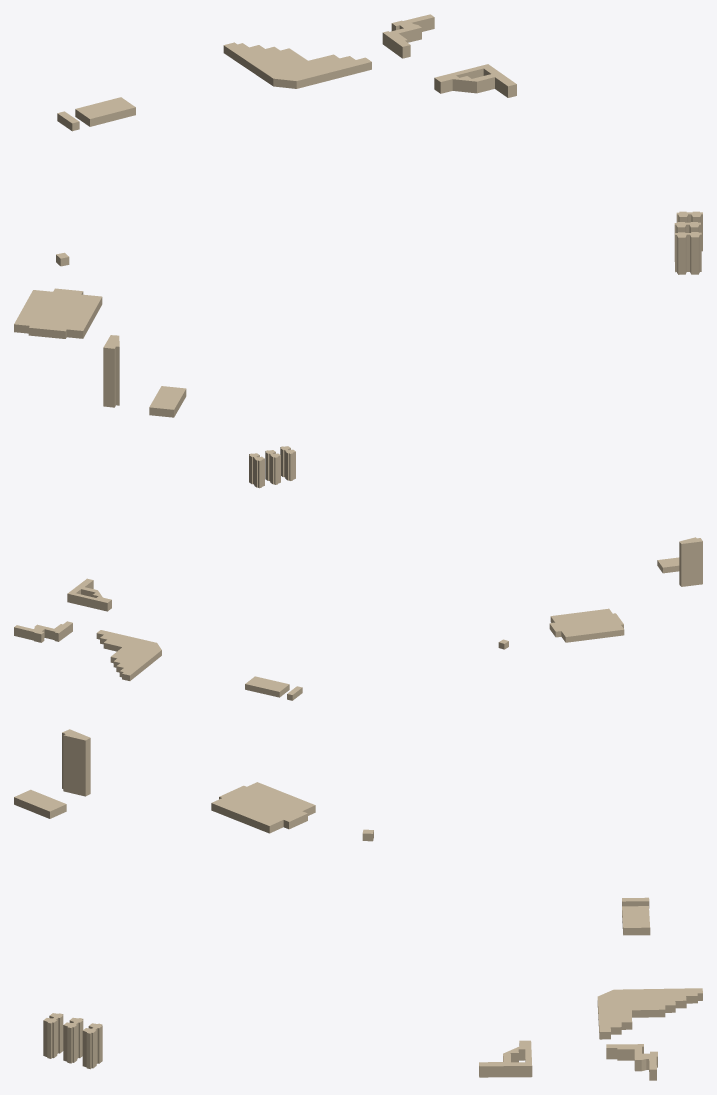
Rendered from -13_-2-estimated-coarse.glb.
3 renders of one model, top to bottom at view 1: azimuth 30°, elevation 25°; view 2: azimuth 150°, elevation 25°; view 3: azimuth 270°, elevation 25°, orthographic. The views are drawn at different scales.
Bounding box in the file's own units: 1017 × 90 × 1002.
